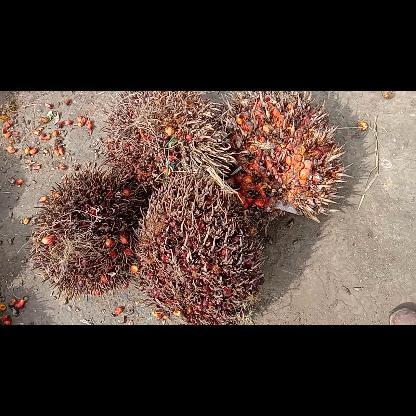Terlalu masak: (132, 170, 262, 324), (214, 90, 352, 222), (28, 162, 152, 298), (100, 91, 240, 193)
